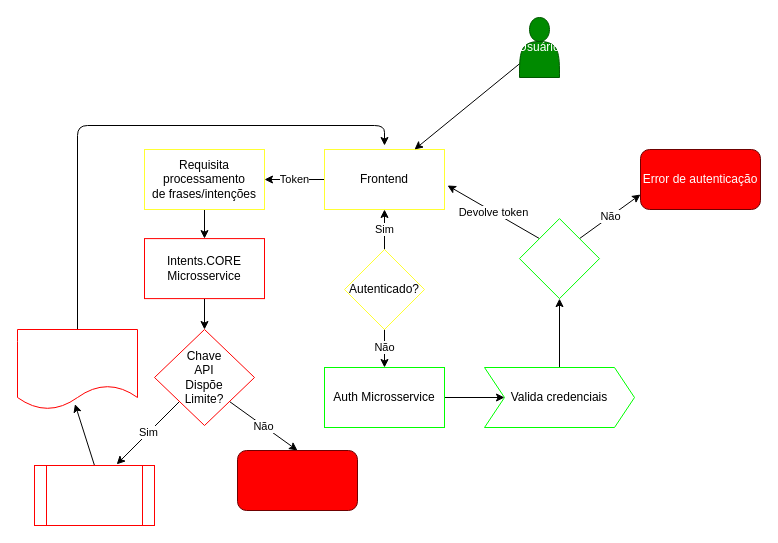
This 778x543 diagram has some shape labels left out. Each missing label, with the centre of its shape:
Credencial valida?: (559,258)
Processamento de frase/intenção: (94,495)
Requisição Inválida: (297,480)
Resultado do processo: (77,369)
